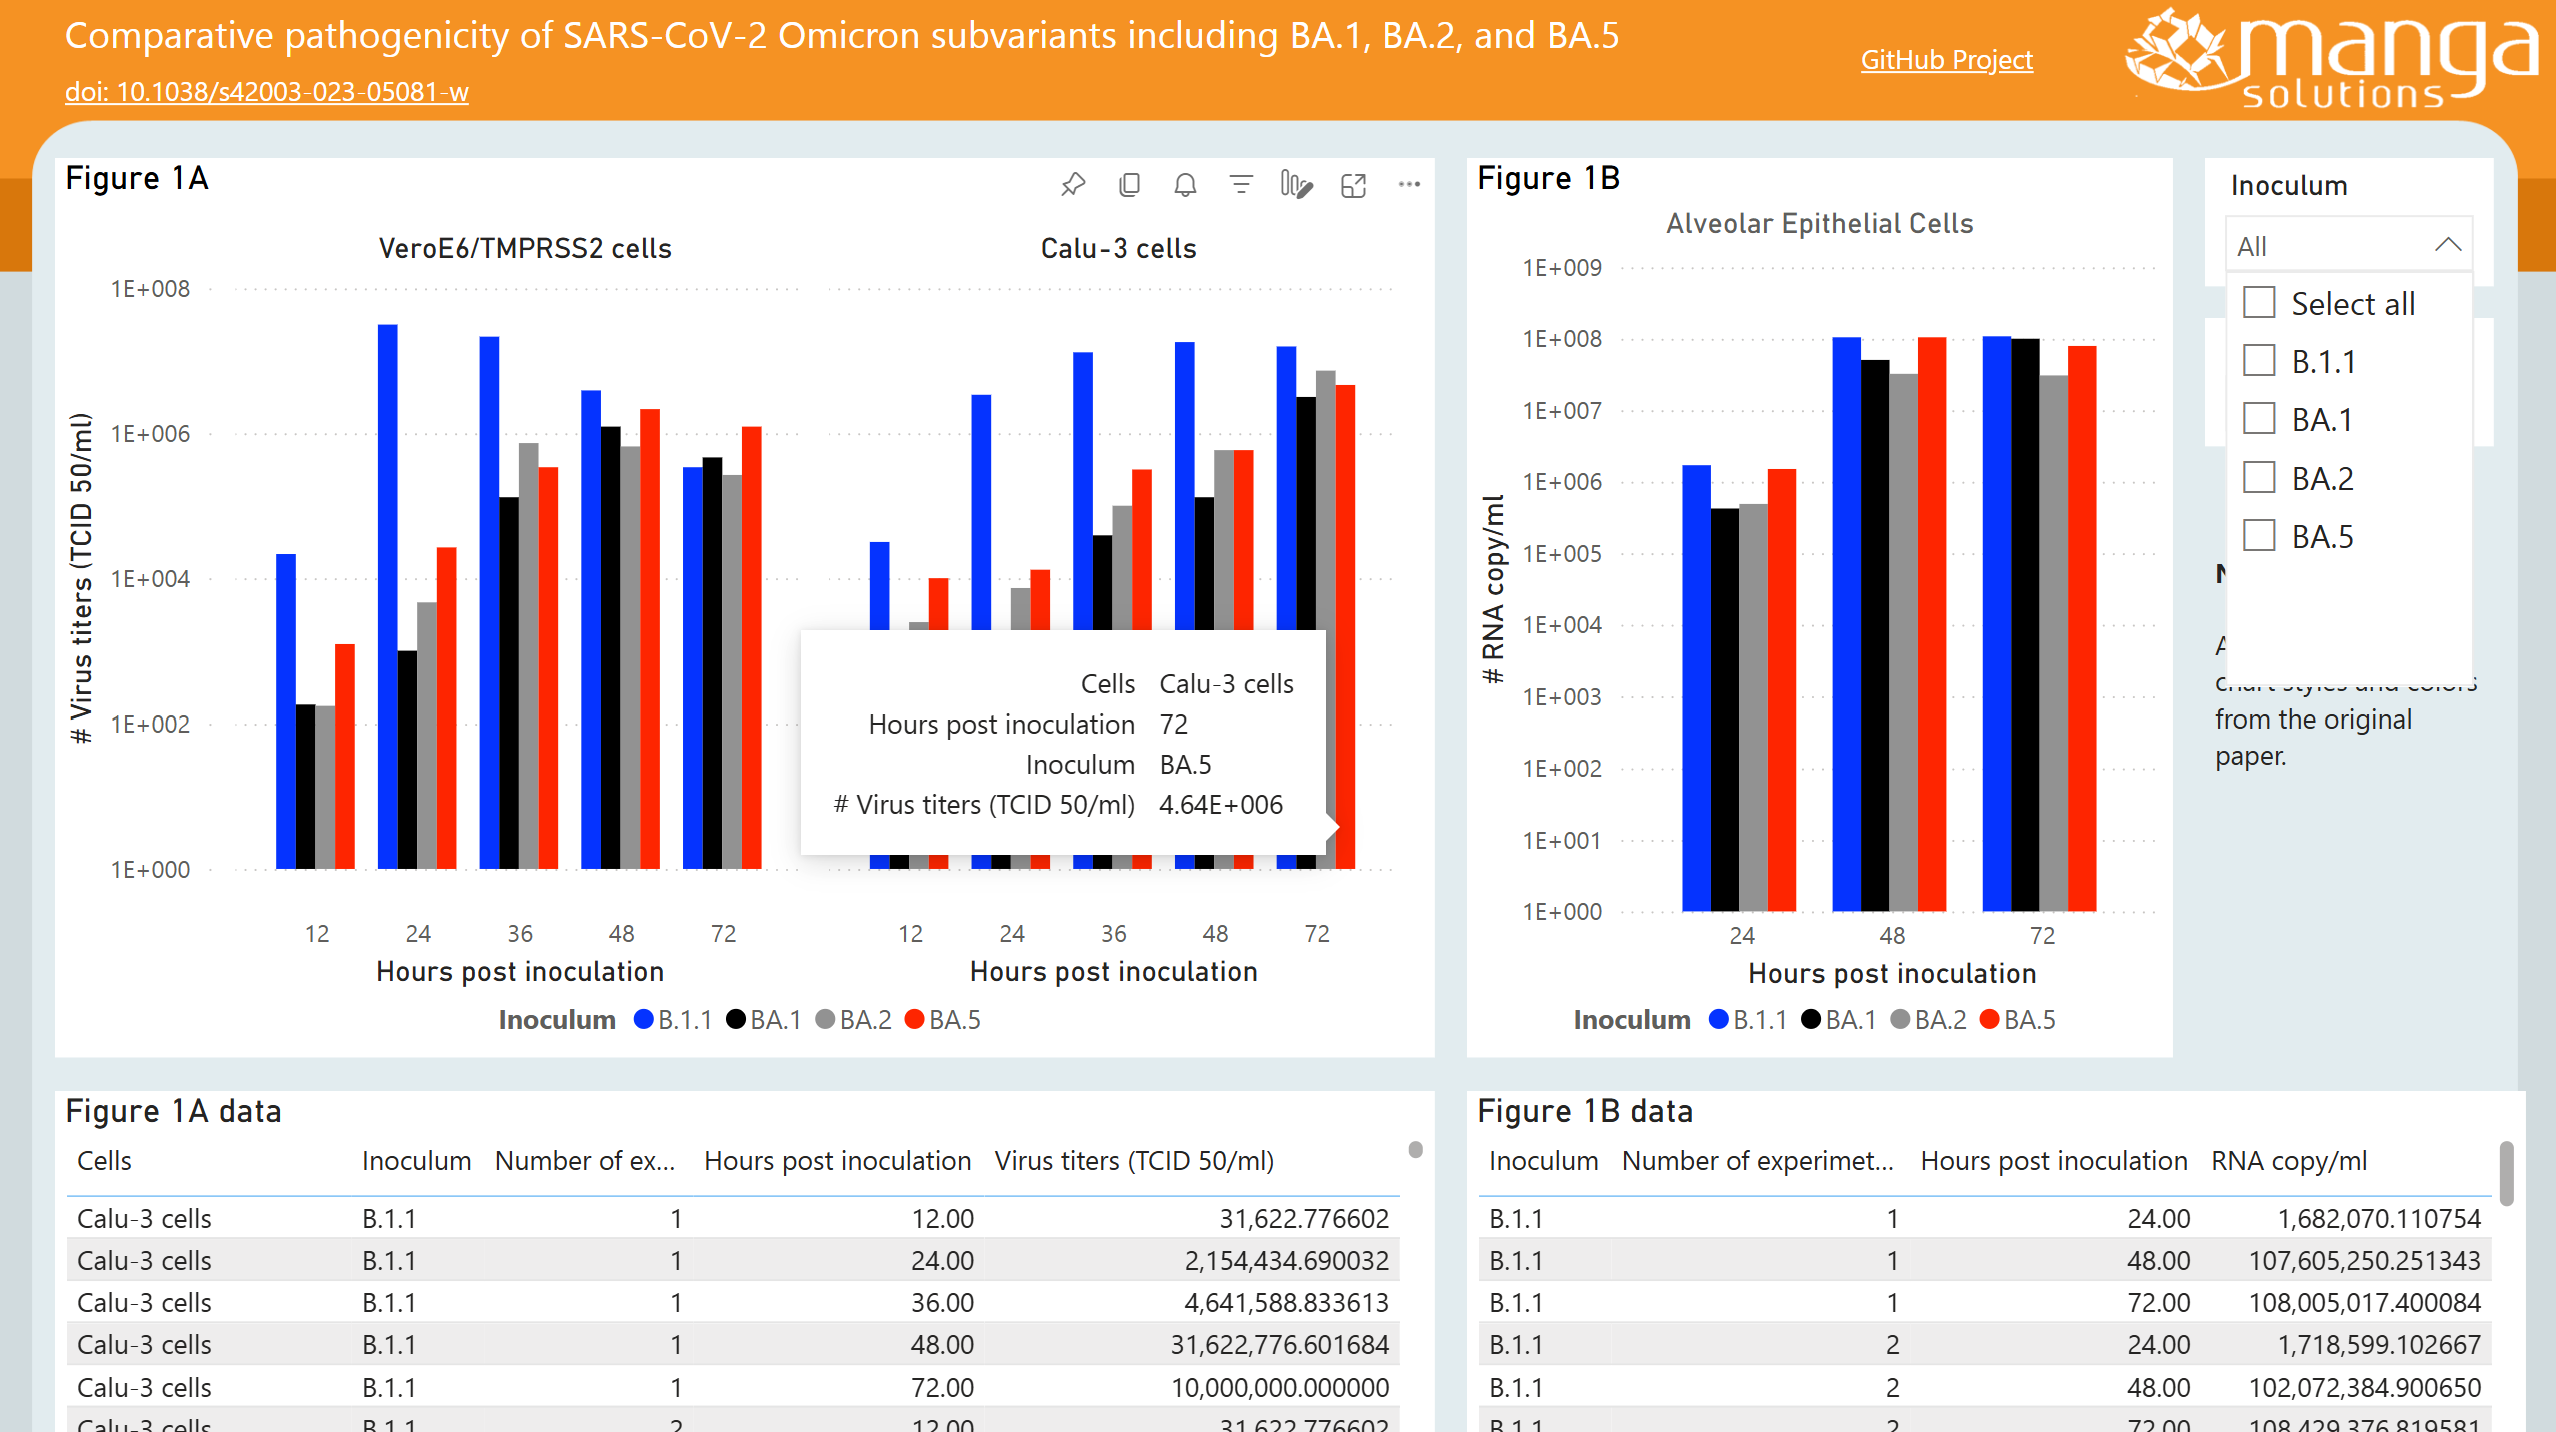

What the dashboard file says about the page in this screenshot:
{"tool":"powerbi","page":{"name":"Repro","canvas":[1280,720],"ordinal":0},"visuals":[{"type":"slicer","fields":{"Values":["Inoculums.Inoculum"]},"box":[1104,80,144,64],"z":0},{"type":"tableEx","title":"Figure 1A data","fields":{"Values":["Figure 1A.Cells","Figure 1A.Inoculum","Figure 1A.Number of experimetal data","Figure 1A.Hours post inoculation","Figure 1A.# Virus titers (TCID 50/ml) - 6 dec"]},"box":[32,544,688,176],"z":1000},{"type":"clusteredColumnChart","title":"Figure 1A","fields":{"Series":["Inoculums.Inoculum"],"Category":["Hours.Hours post inoculation"],"Y":["Figure 1A.# Virus titers (TCID 50/ml)"],"Rows":["Figure 1A.Cells"]},"box":[32,80,688,448],"z":2000},{"type":"textbox","box":[32,0,864,48],"z":3000},{"type":"actionButton","box":[1056,0,224,64],"z":4000},{"type":"textbox","box":[896,16,128,32],"z":5000},{"type":"textbox","box":[32,32,304,32],"z":6000},{"type":"clusteredColumnChart","title":"Figure 1B","fields":{"Series":["Inoculums.Inoculum"],"Category":["Hours.Hours post inoculation"],"Y":["Figure 1B.# RNA copy/ml"]},"box":[736,80,352,448],"z":7000},{"type":"tableEx","title":"Figure 1B data","fields":{"Values":["Figure 1B.Inoculum","Figure 1B.Number of experimetal data","Figure 1B.Hours post inoculation","Figure 1B.# RNA copy/ml - 6 dec"]},"box":[736,544,528,176],"z":8000},{"type":"slicer","fields":{"Values":["Hours.Hours post inoculation"]},"box":[1104,160,144,64],"z":9000},{"type":"textbox","box":[1104,272,144,256],"z":9001}]}

Visuals, with their boxes on the page's 1280x720 design canvas (x1, y1, x2, y2). These are canvas units, not pixel positions in the 2556x1432 screenshot, which may show the page scaled, cropped or inside an application window:
slicer - Inoculums.Inoculum: crop(1104, 80, 1248, 144)
"Figure 1A data" tableEx: crop(32, 544, 720, 720)
"Figure 1A" clusteredColumnChart: crop(32, 80, 720, 528)
textbox: crop(32, 0, 896, 48)
actionButton: crop(1056, 0, 1280, 64)
textbox: crop(896, 16, 1024, 48)
textbox: crop(32, 32, 336, 64)
"Figure 1B" clusteredColumnChart: crop(736, 80, 1088, 528)
"Figure 1B data" tableEx: crop(736, 544, 1264, 720)
slicer - Hours.Hours post inoculation: crop(1104, 160, 1248, 224)
textbox: crop(1104, 272, 1248, 528)
